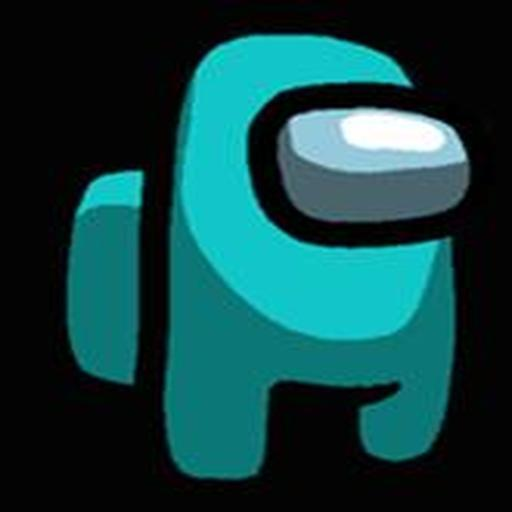Crewmate: (61, 29, 481, 477)
